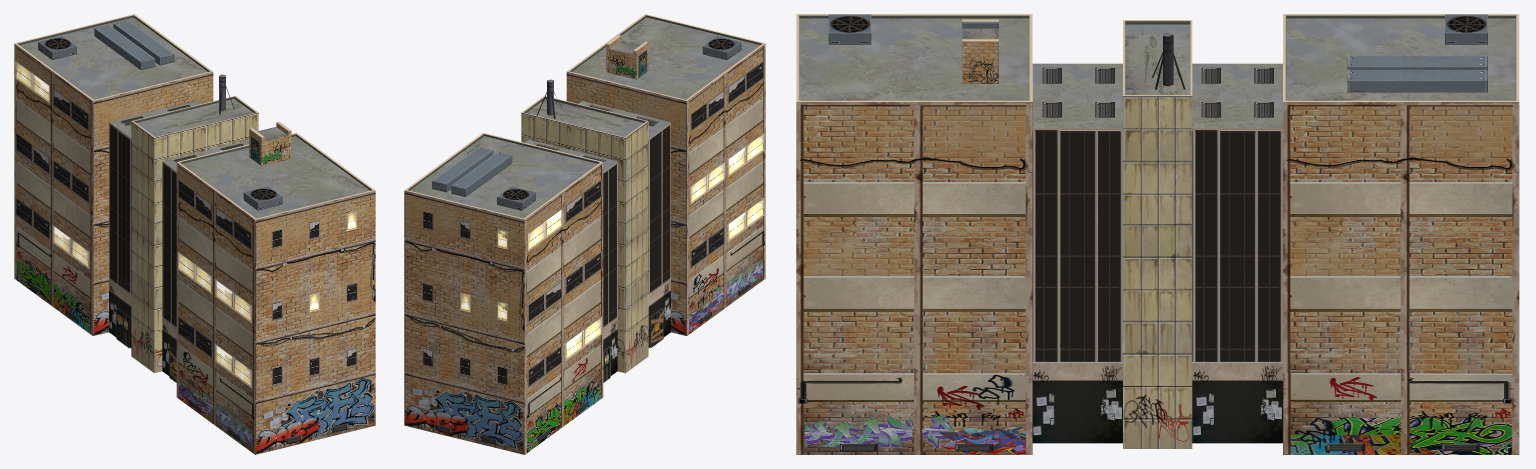
3 renders of one model, left to right at view 1: azimuth 30°, elevation 25°; view 2: azimuth 150°, elevation 25°; view 3: azimuth 270°, elevation 25°, orthographic. The views are drawn at different scales.
Visible parts, largest first — view 1: pasted__pCube19_LMProjects_0.002; view 2: pasted__pCube19_LMProjects_0.002; view 3: pasted__pCube19_LMProjects_0.002.
Boxes of the visible parts, left/top/right/bottom form: pasted__pCube19_LMProjects_0.002: left=14, top=14, right=375, bottom=454; pasted__pCube19_LMProjects_0.002: left=404, top=14, right=765, bottom=454; pasted__pCube19_LMProjects_0.002: left=796, top=14, right=1519, bottom=454.
Bounding box in the file's own units: 7.56 × 15.83 × 26.18.
2 materials, 2 textured.
